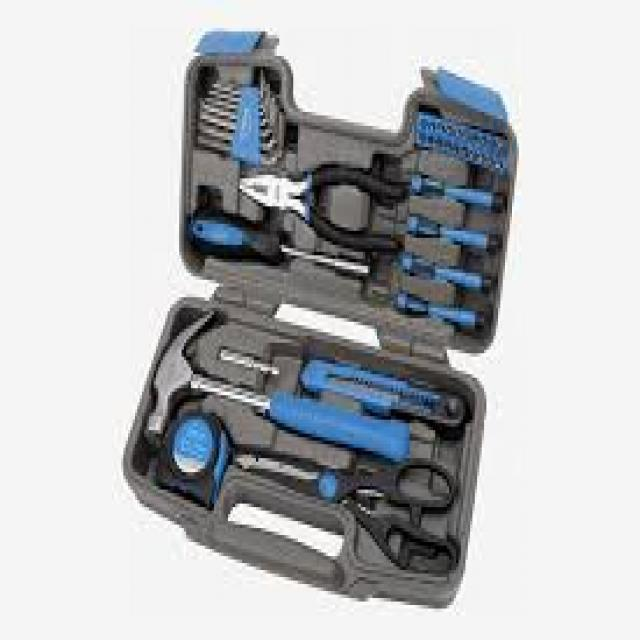hammer: (143, 306, 414, 460)
pliers: (237, 154, 407, 262)
screwdriver: (190, 212, 372, 280)
